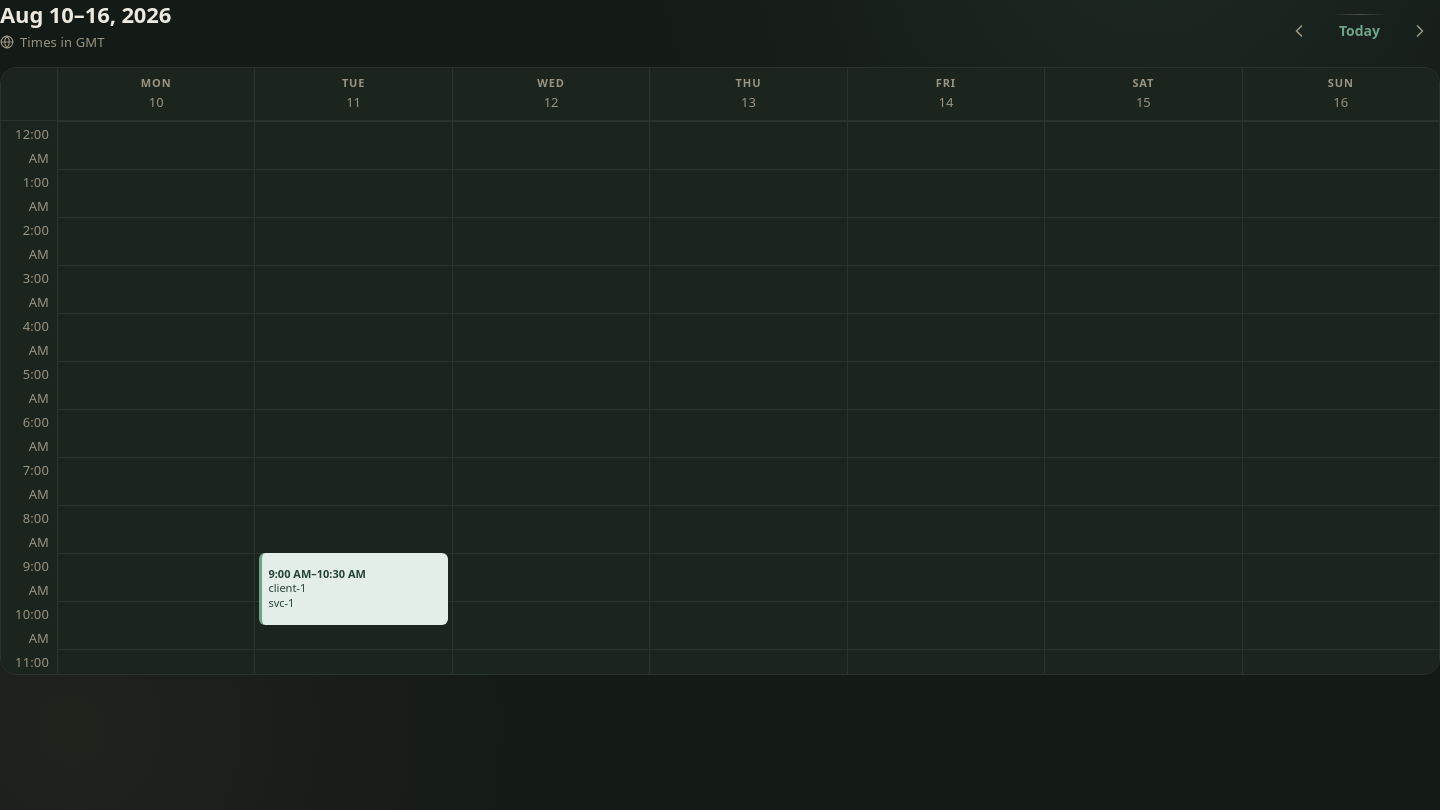
Test: WeekCalendar › shows API errors from actions inline in the modal
Click the button with aria-label "9:00 AM to 10:30 AM, client-1, svc-1, Confirmed": (354, 589) [259,553,448,625]
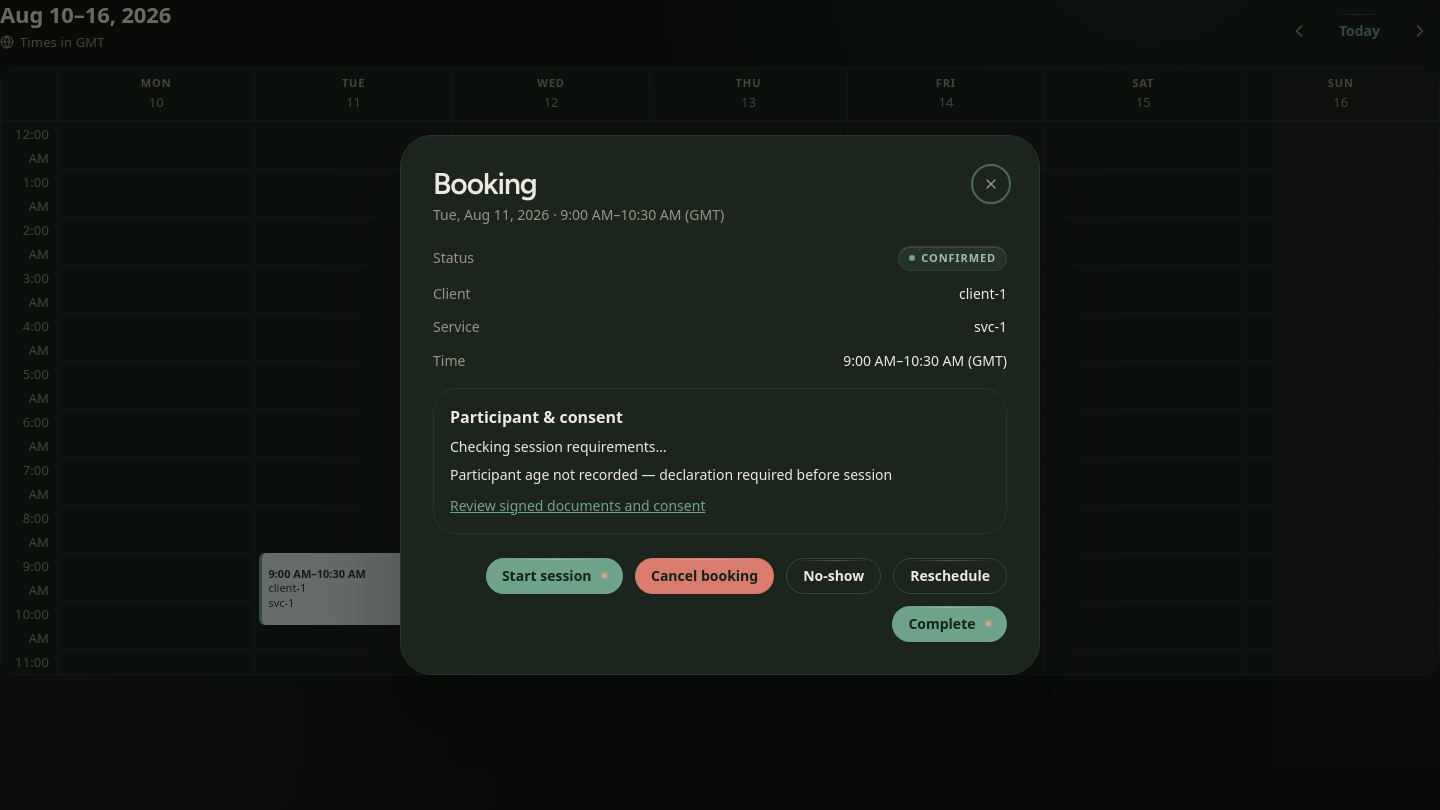
Click the button "Complete": (950, 624) [892,606,1007,642]
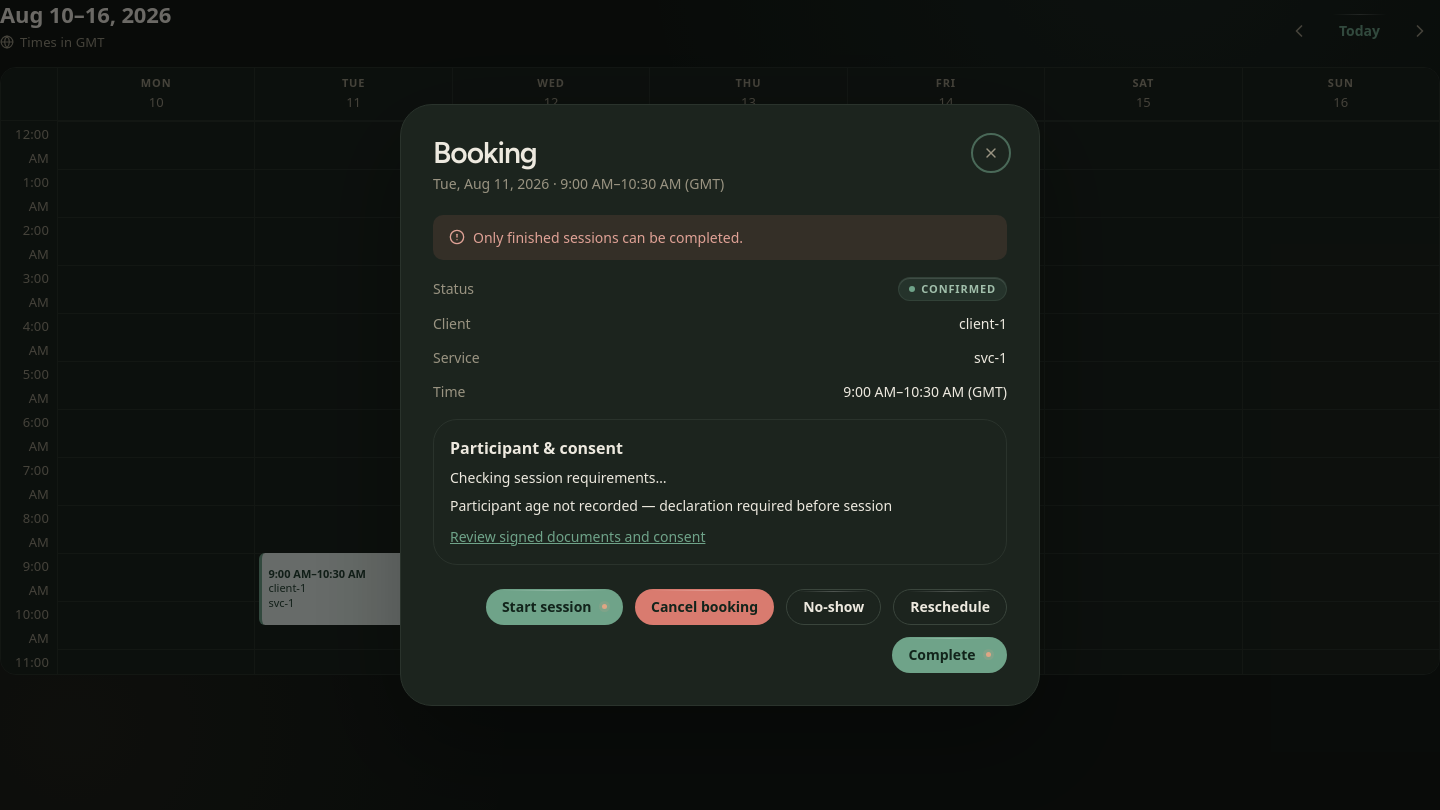
Now the message "Only finished sessions can be completed." is shown, box [433,215,1007,260]
